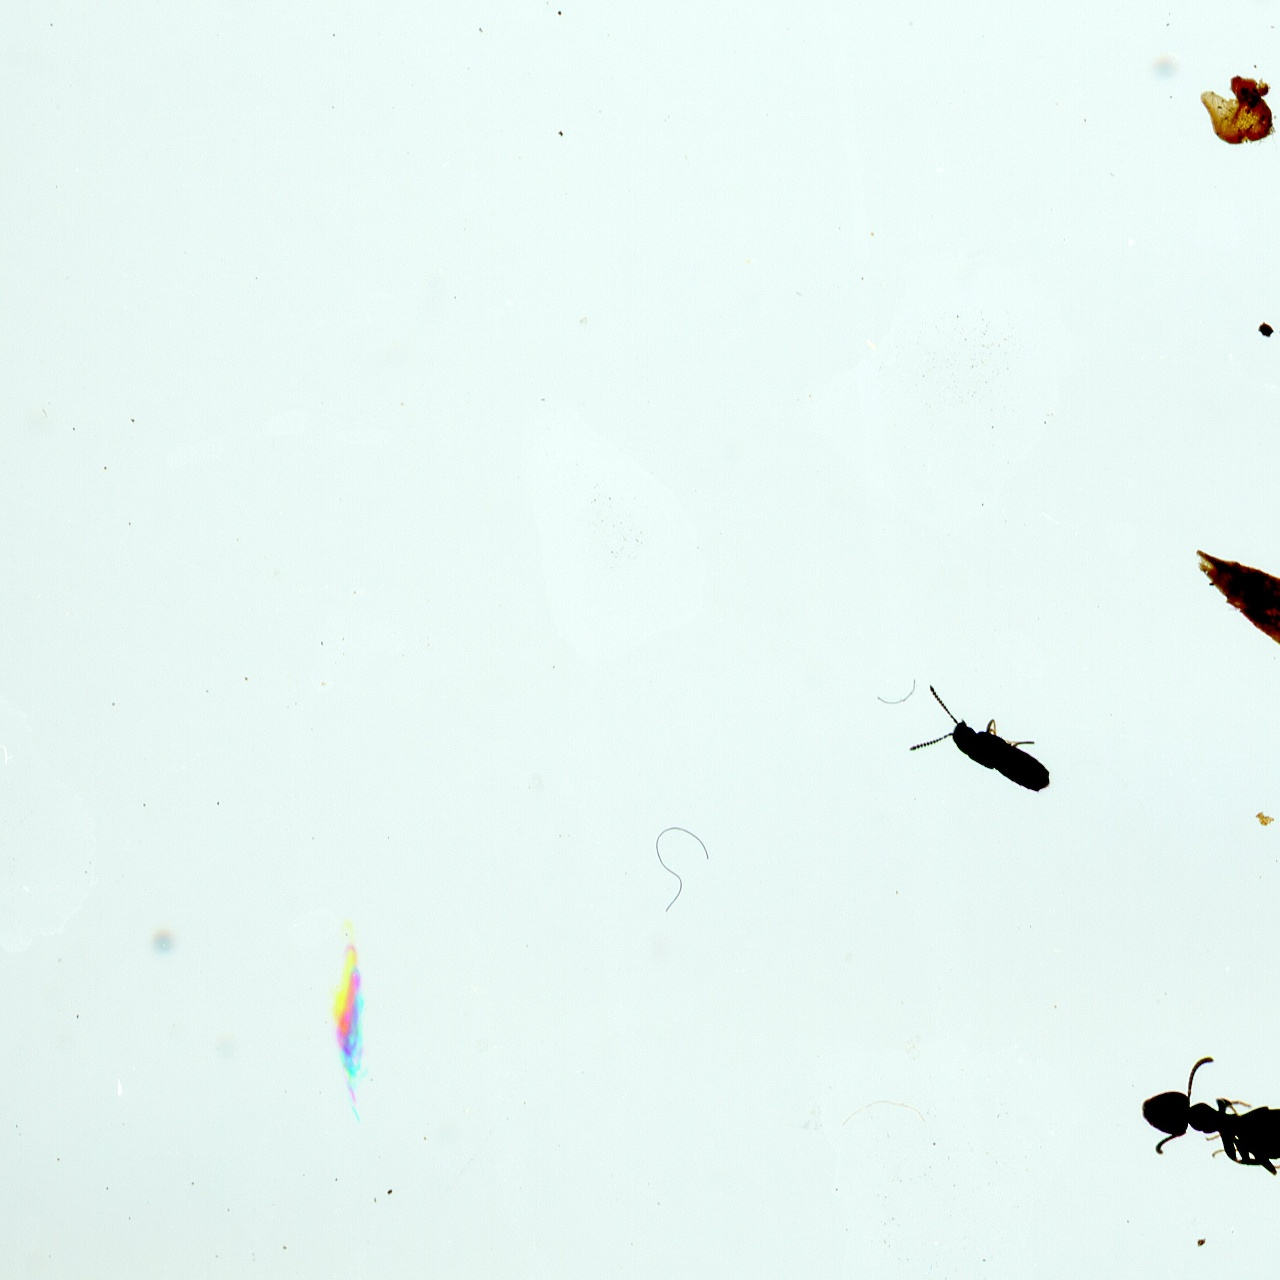arthropod: (872, 641, 1078, 852), (1133, 1052, 1280, 1180), (322, 923, 381, 1120)
